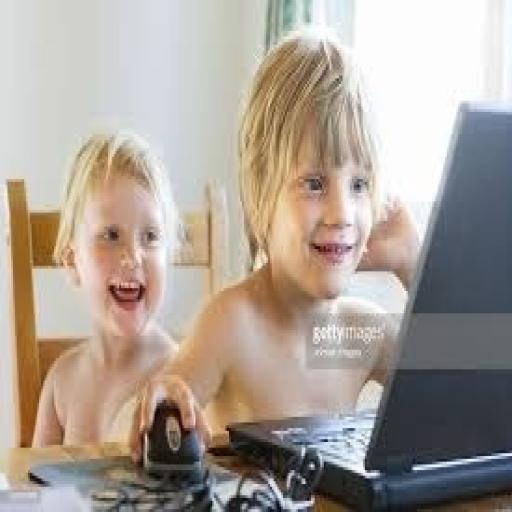using_laptop: (224, 95, 510, 509)
